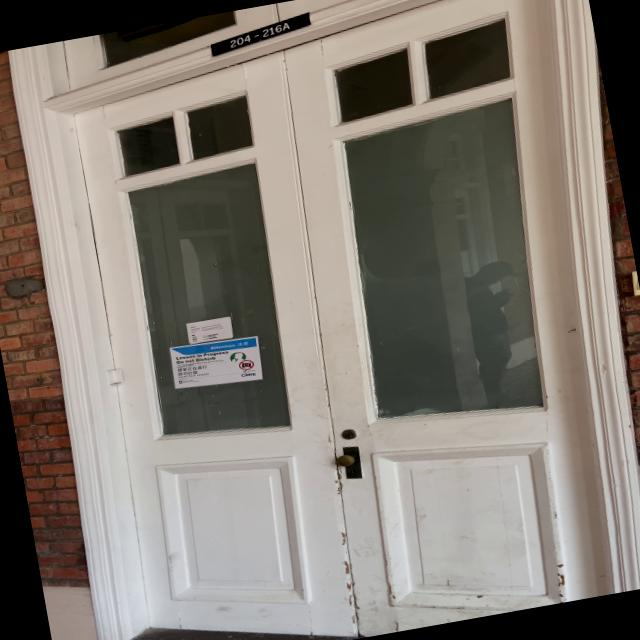room204: (202, 8, 322, 64)
